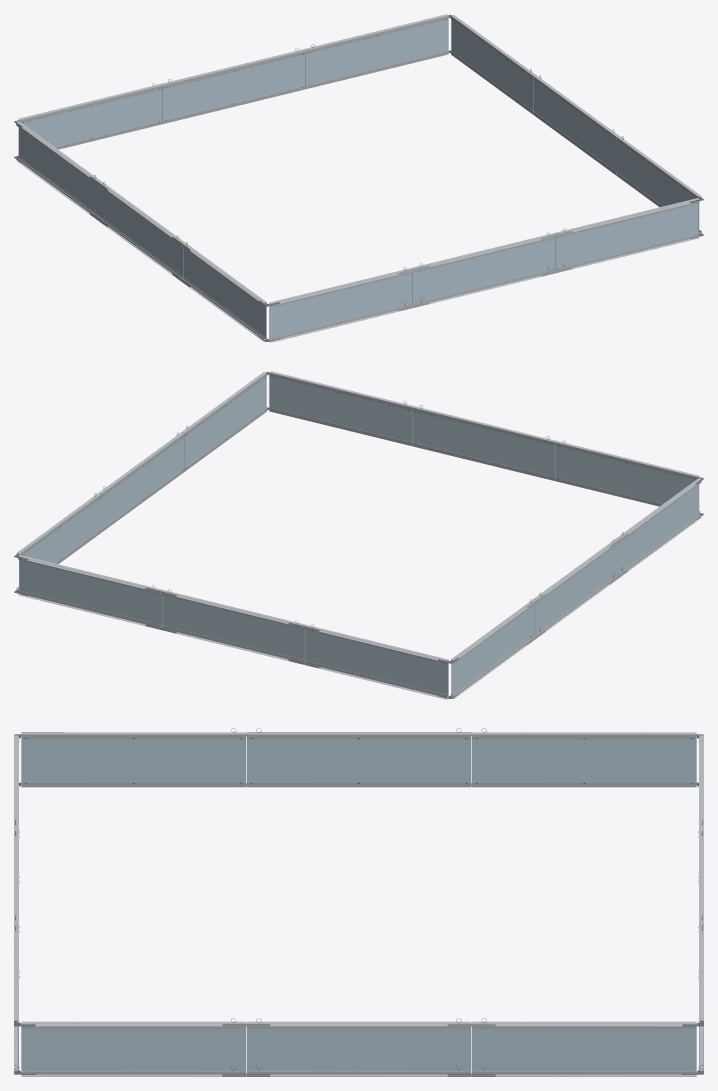
File: ftc-perimeter-revb.glb
3 views of the same model, one above another, from view 1: azimuth 30°, elevation 25°; view 2: azimuth 150°, elevation 25°; view 3: azimuth 270°, elevation 25° (orthographic). The views are drawn at different scales.
Size of the model in its own units: 3.64 by 0.3366 by 3.64.
